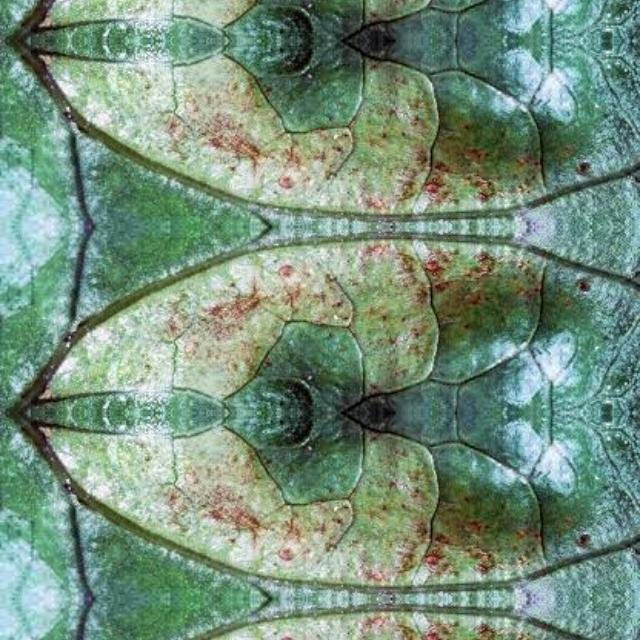Downy_mildew: (4, 226, 626, 412), (4, 40, 626, 226), (4, 412, 626, 598), (3, 598, 626, 640), (3, 0, 626, 40)
